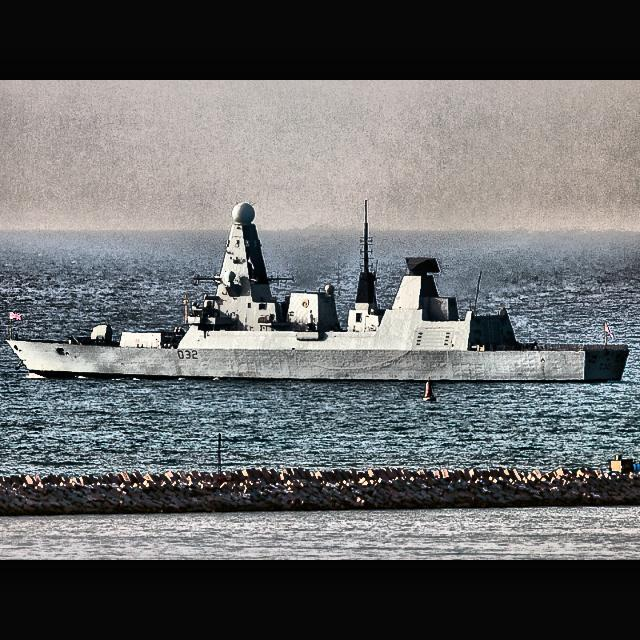combat_vessel: (5, 196, 629, 384)
